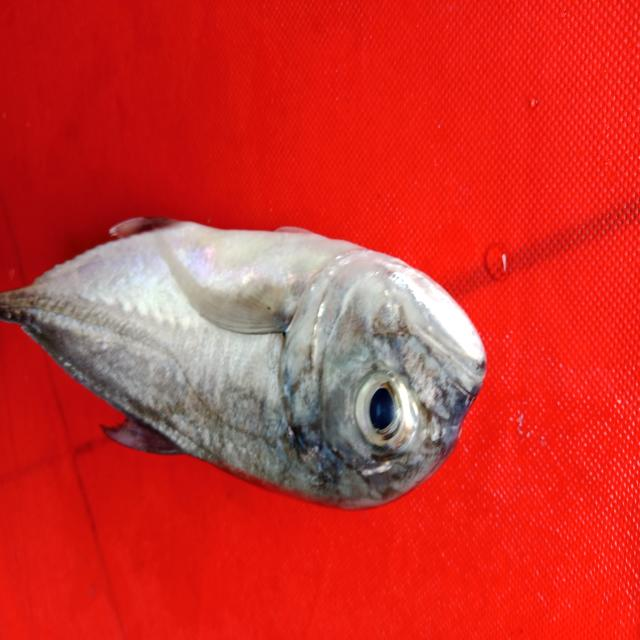ikan: (6, 180, 507, 521)
